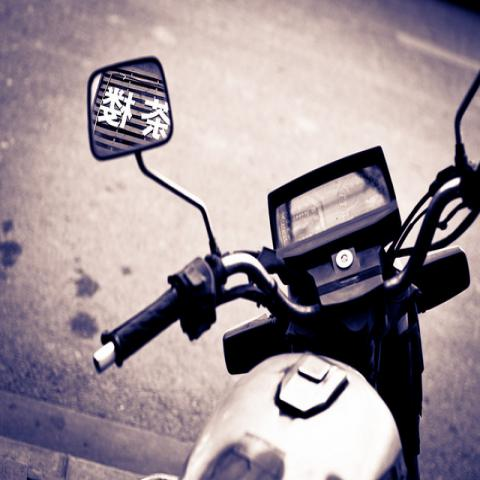motorcycle: (88, 57, 480, 474)
